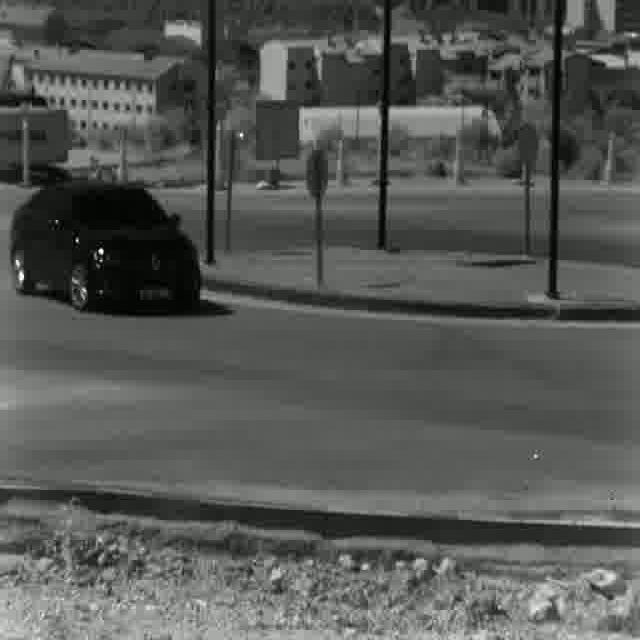Car: (8, 180, 202, 315)
